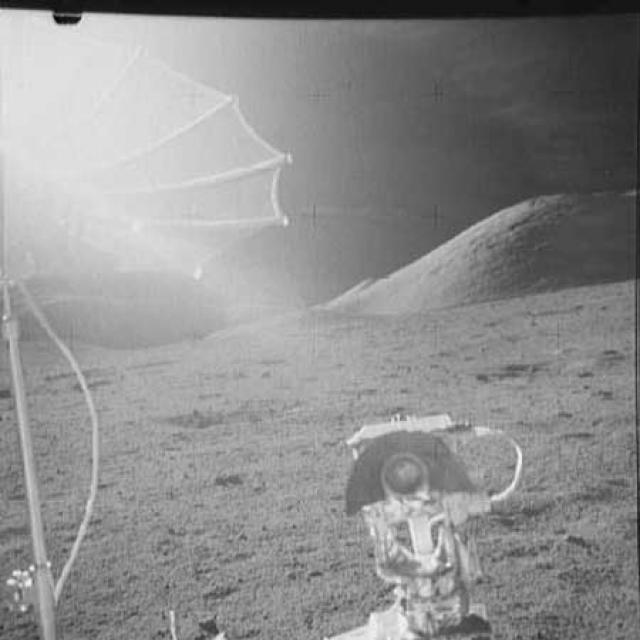artifact: (0, 25, 312, 302), (327, 415, 552, 639), (0, 294, 123, 639)
crater: (156, 402, 287, 433)
